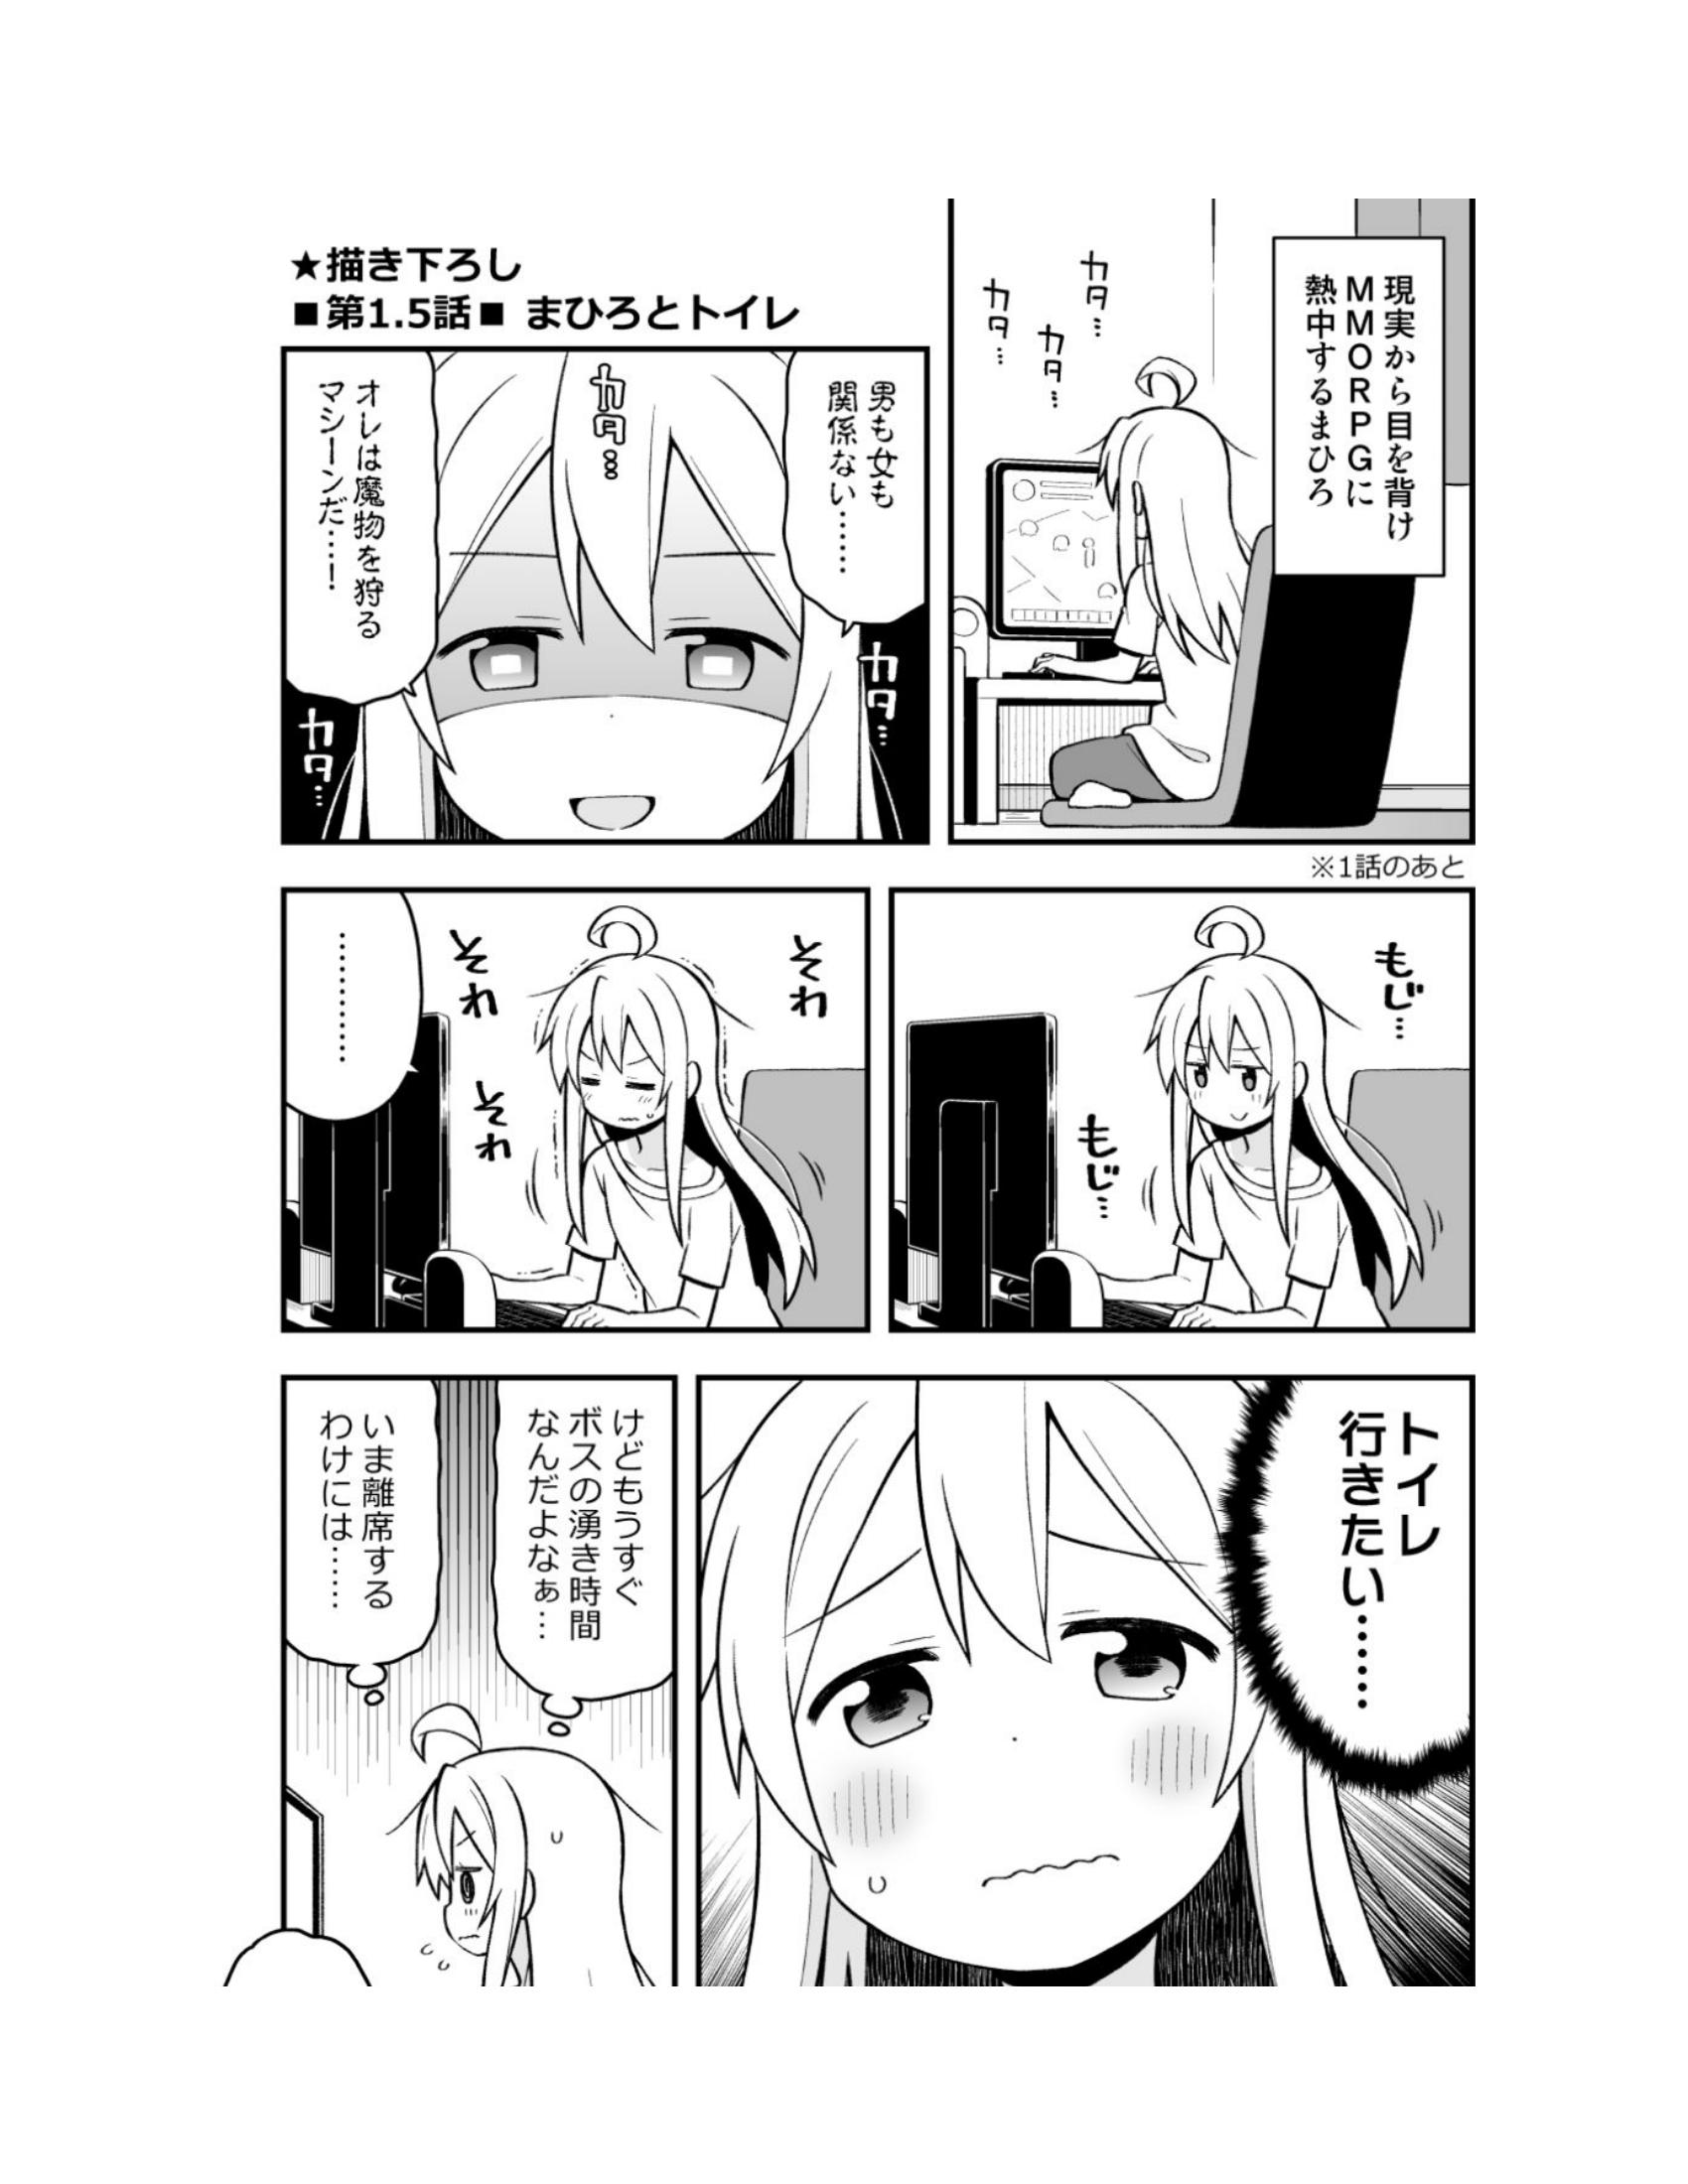a: (1264, 222, 1466, 596), (268, 340, 470, 700), (1271, 1367, 1449, 1760), (511, 1349, 692, 1686), (282, 1376, 447, 1700), (544, 337, 695, 640), (780, 326, 924, 643)
